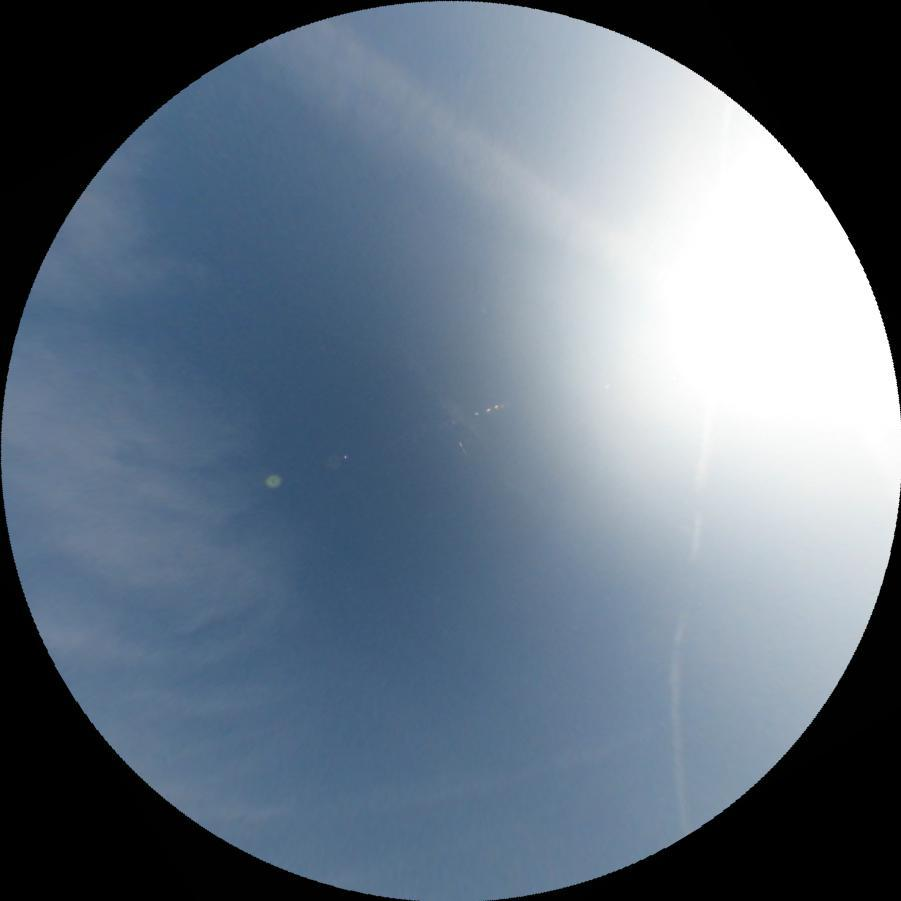contrail old: (660, 404, 715, 835)
contrail veryold: (204, 721, 641, 861)
